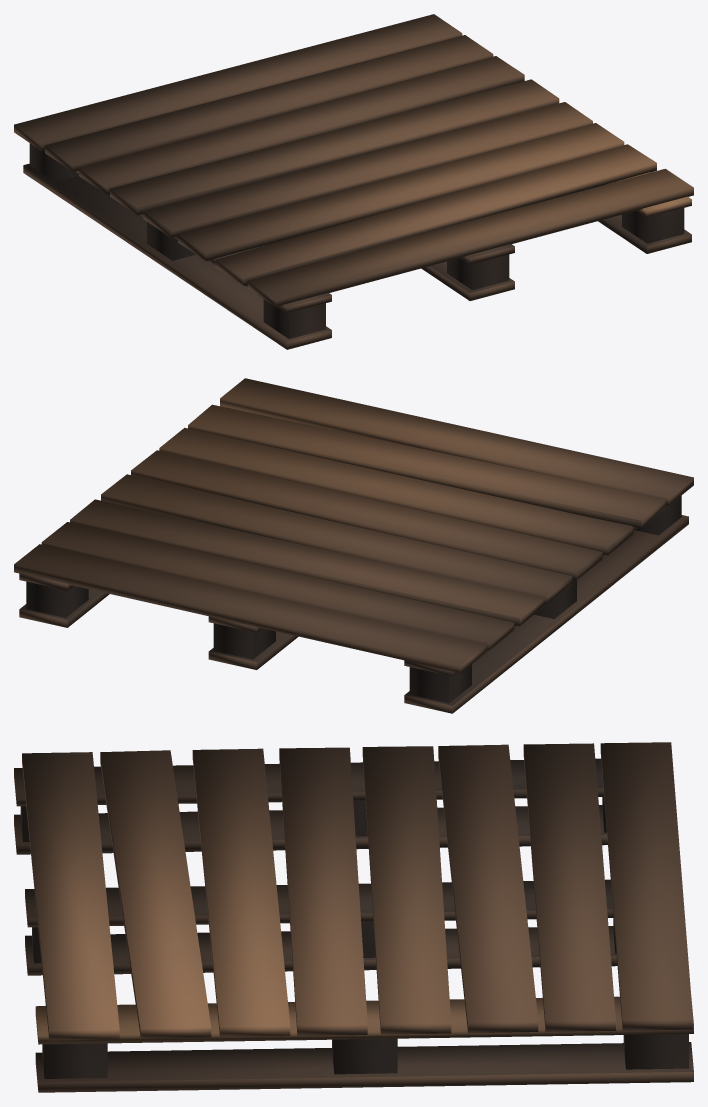
3 renders of one model, top to bottom at view 1: azimuth 30°, elevation 25°; view 2: azimuth 150°, elevation 25°; view 3: azimuth 270°, elevation 25°, orthographic. The views are drawn at different scales.
Parts seen in each view (by area): view 1: ShippingPallet; view 2: ShippingPallet; view 3: ShippingPallet.
Boxes of the visible parts, <box> form: ShippingPallet: <box>14,14,693,349</box>; ShippingPallet: <box>14,378,693,713</box>; ShippingPallet: <box>14,742,693,1092</box>.
Bounding box in the file's own units: 0.5 × 0.0537 × 0.4986.
